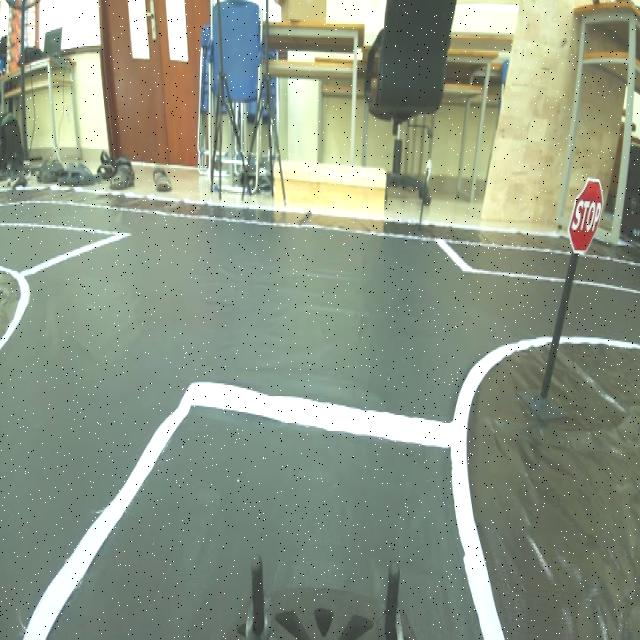stop: (564, 170, 608, 261)
